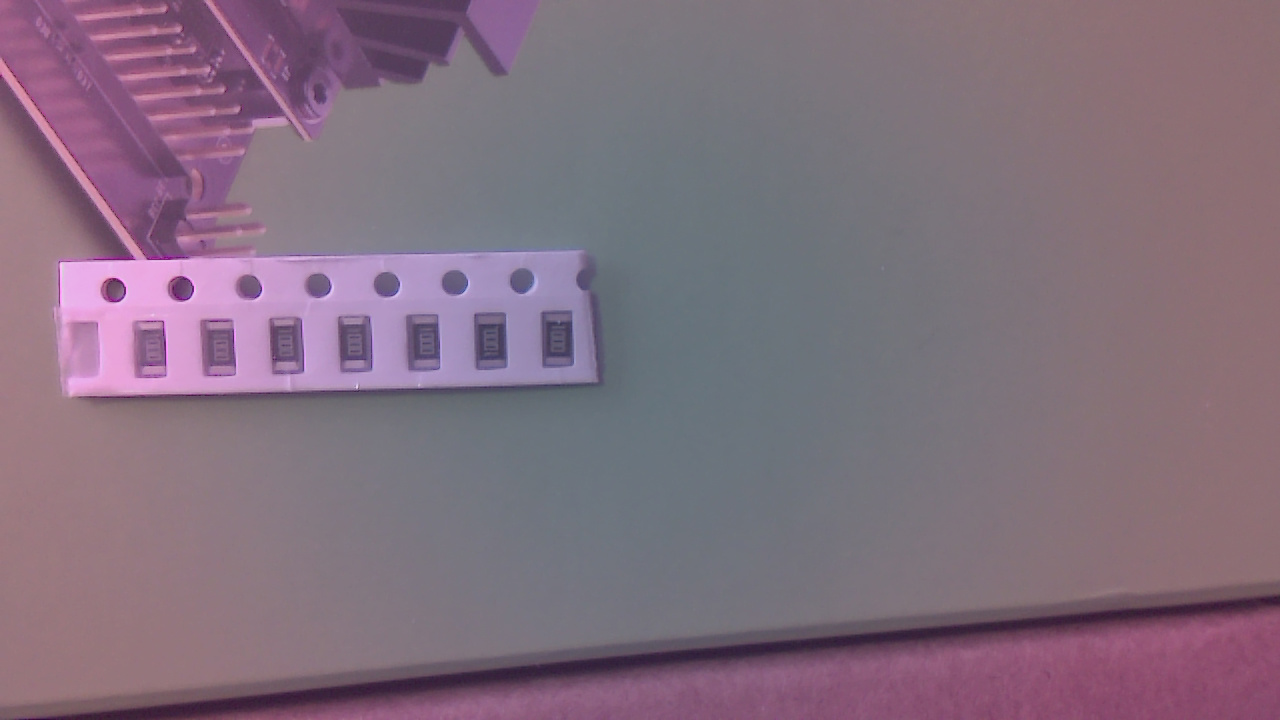Resistor: (204, 323, 242, 382), (478, 316, 515, 376), (137, 324, 174, 384), (546, 315, 581, 375), (414, 317, 448, 378), (273, 319, 307, 380), (342, 320, 377, 379)
